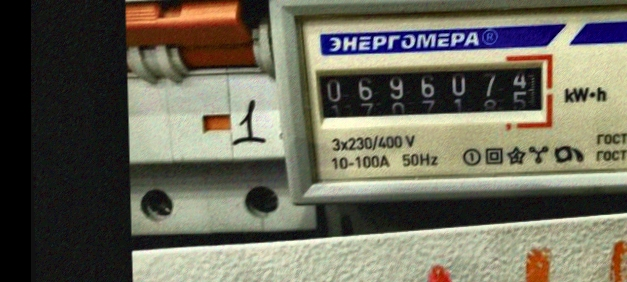0: (324, 77, 343, 102), (450, 71, 467, 97)
4: (512, 68, 527, 89)
5: (513, 90, 527, 109)
6: (355, 75, 374, 101), (419, 71, 436, 99)
7: (481, 71, 498, 97)
9: (387, 74, 405, 101)
screen: (310, 51, 558, 135)
